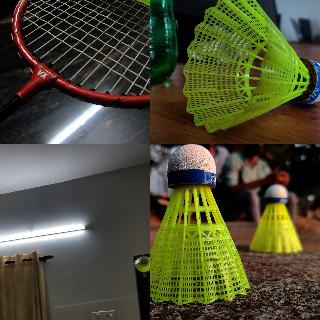shuttlecock: (182, 0, 319, 132), (150, 144, 251, 304), (250, 182, 304, 254), (134, 255, 149, 272)
